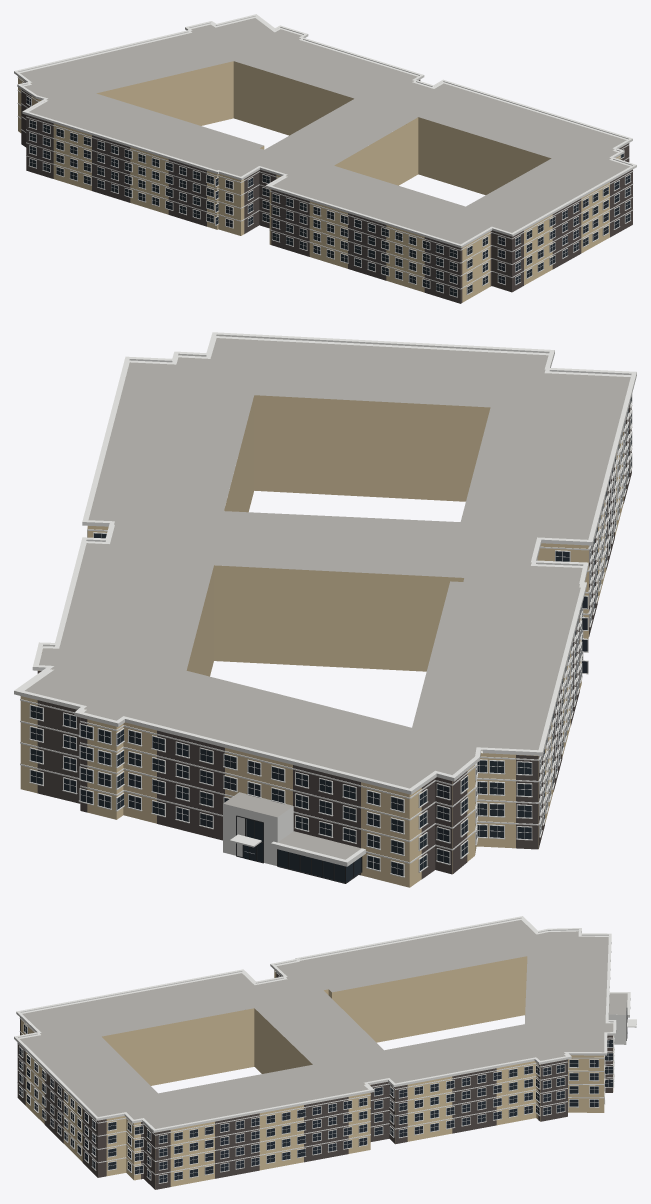
File: canyon_creek_heights_south_ch6.glb
3 renders of one model, top to bottom at view 1: azimuth 30°, elevation 25°; view 2: azimuth 150°, elevation 25°; view 3: azimuth 270°, elevation 25°, orthographic. The views are drawn at different scales.
Visible parts, largest first — view 1: canyon_creek_heights_south_ch6_Roof_Membrane, canyon_creek_heights_south_ch6_Wall_beigeStucco, canyon_creek_heights_south_ch6_Trim_White, canyon_creek_heights_south_ch6_Wall_canyonBrick, canyon_creek_heights_south_ch6_Glass_dark; view 2: canyon_creek_heights_south_ch6_Roof_Membrane, canyon_creek_heights_south_ch6_Wall_beigeStucco, canyon_creek_heights_south_ch6_Trim_White, canyon_creek_heights_south_ch6_Glass_dark, canyon_creek_heights_south_ch6_Wall_canyonBrick; view 3: canyon_creek_heights_south_ch6_Roof_Membrane, canyon_creek_heights_south_ch6_Wall_beigeStucco, canyon_creek_heights_south_ch6_Trim_White, canyon_creek_heights_south_ch6_Wall_canyonBrick, canyon_creek_heights_south_ch6_Glass_dark.
Boxes of the visible parts, x1,y1,x2,y2 form: canyon_creek_heights_south_ch6_Roof_Membrane: (20,18,629,244); canyon_creek_heights_south_ch6_Wall_beigeStucco: (18,61,620,302); canyon_creek_heights_south_ch6_Trim_White: (14,14,636,297); canyon_creek_heights_south_ch6_Wall_canyonBrick: (21,80,632,303); canyon_creek_heights_south_ch6_Glass_dark: (26,96,630,296); canyon_creek_heights_south_ch6_Roof_Membrane: (25,338,630,859); canyon_creek_heights_south_ch6_Wall_beigeStucco: (20,395,623,887); canyon_creek_heights_south_ch6_Trim_White: (14,332,636,877); canyon_creek_heights_south_ch6_Glass_dark: (30,397,631,882); canyon_creek_heights_south_ch6_Wall_canyonBrick: (37,404,631,879); canyon_creek_heights_south_ch6_Roof_Membrane: (20,920,627,1128); canyon_creek_heights_south_ch6_Wall_beigeStucco: (21,956,613,1189); canyon_creek_heights_south_ch6_Trim_White: (14,916,636,1183); canyon_creek_heights_south_ch6_Wall_canyonBrick: (17,972,612,1189); canyon_creek_heights_south_ch6_Glass_dark: (19,1024,612,1182).
Bounding box in the file's own units: 105 × 13.8 × 128.
